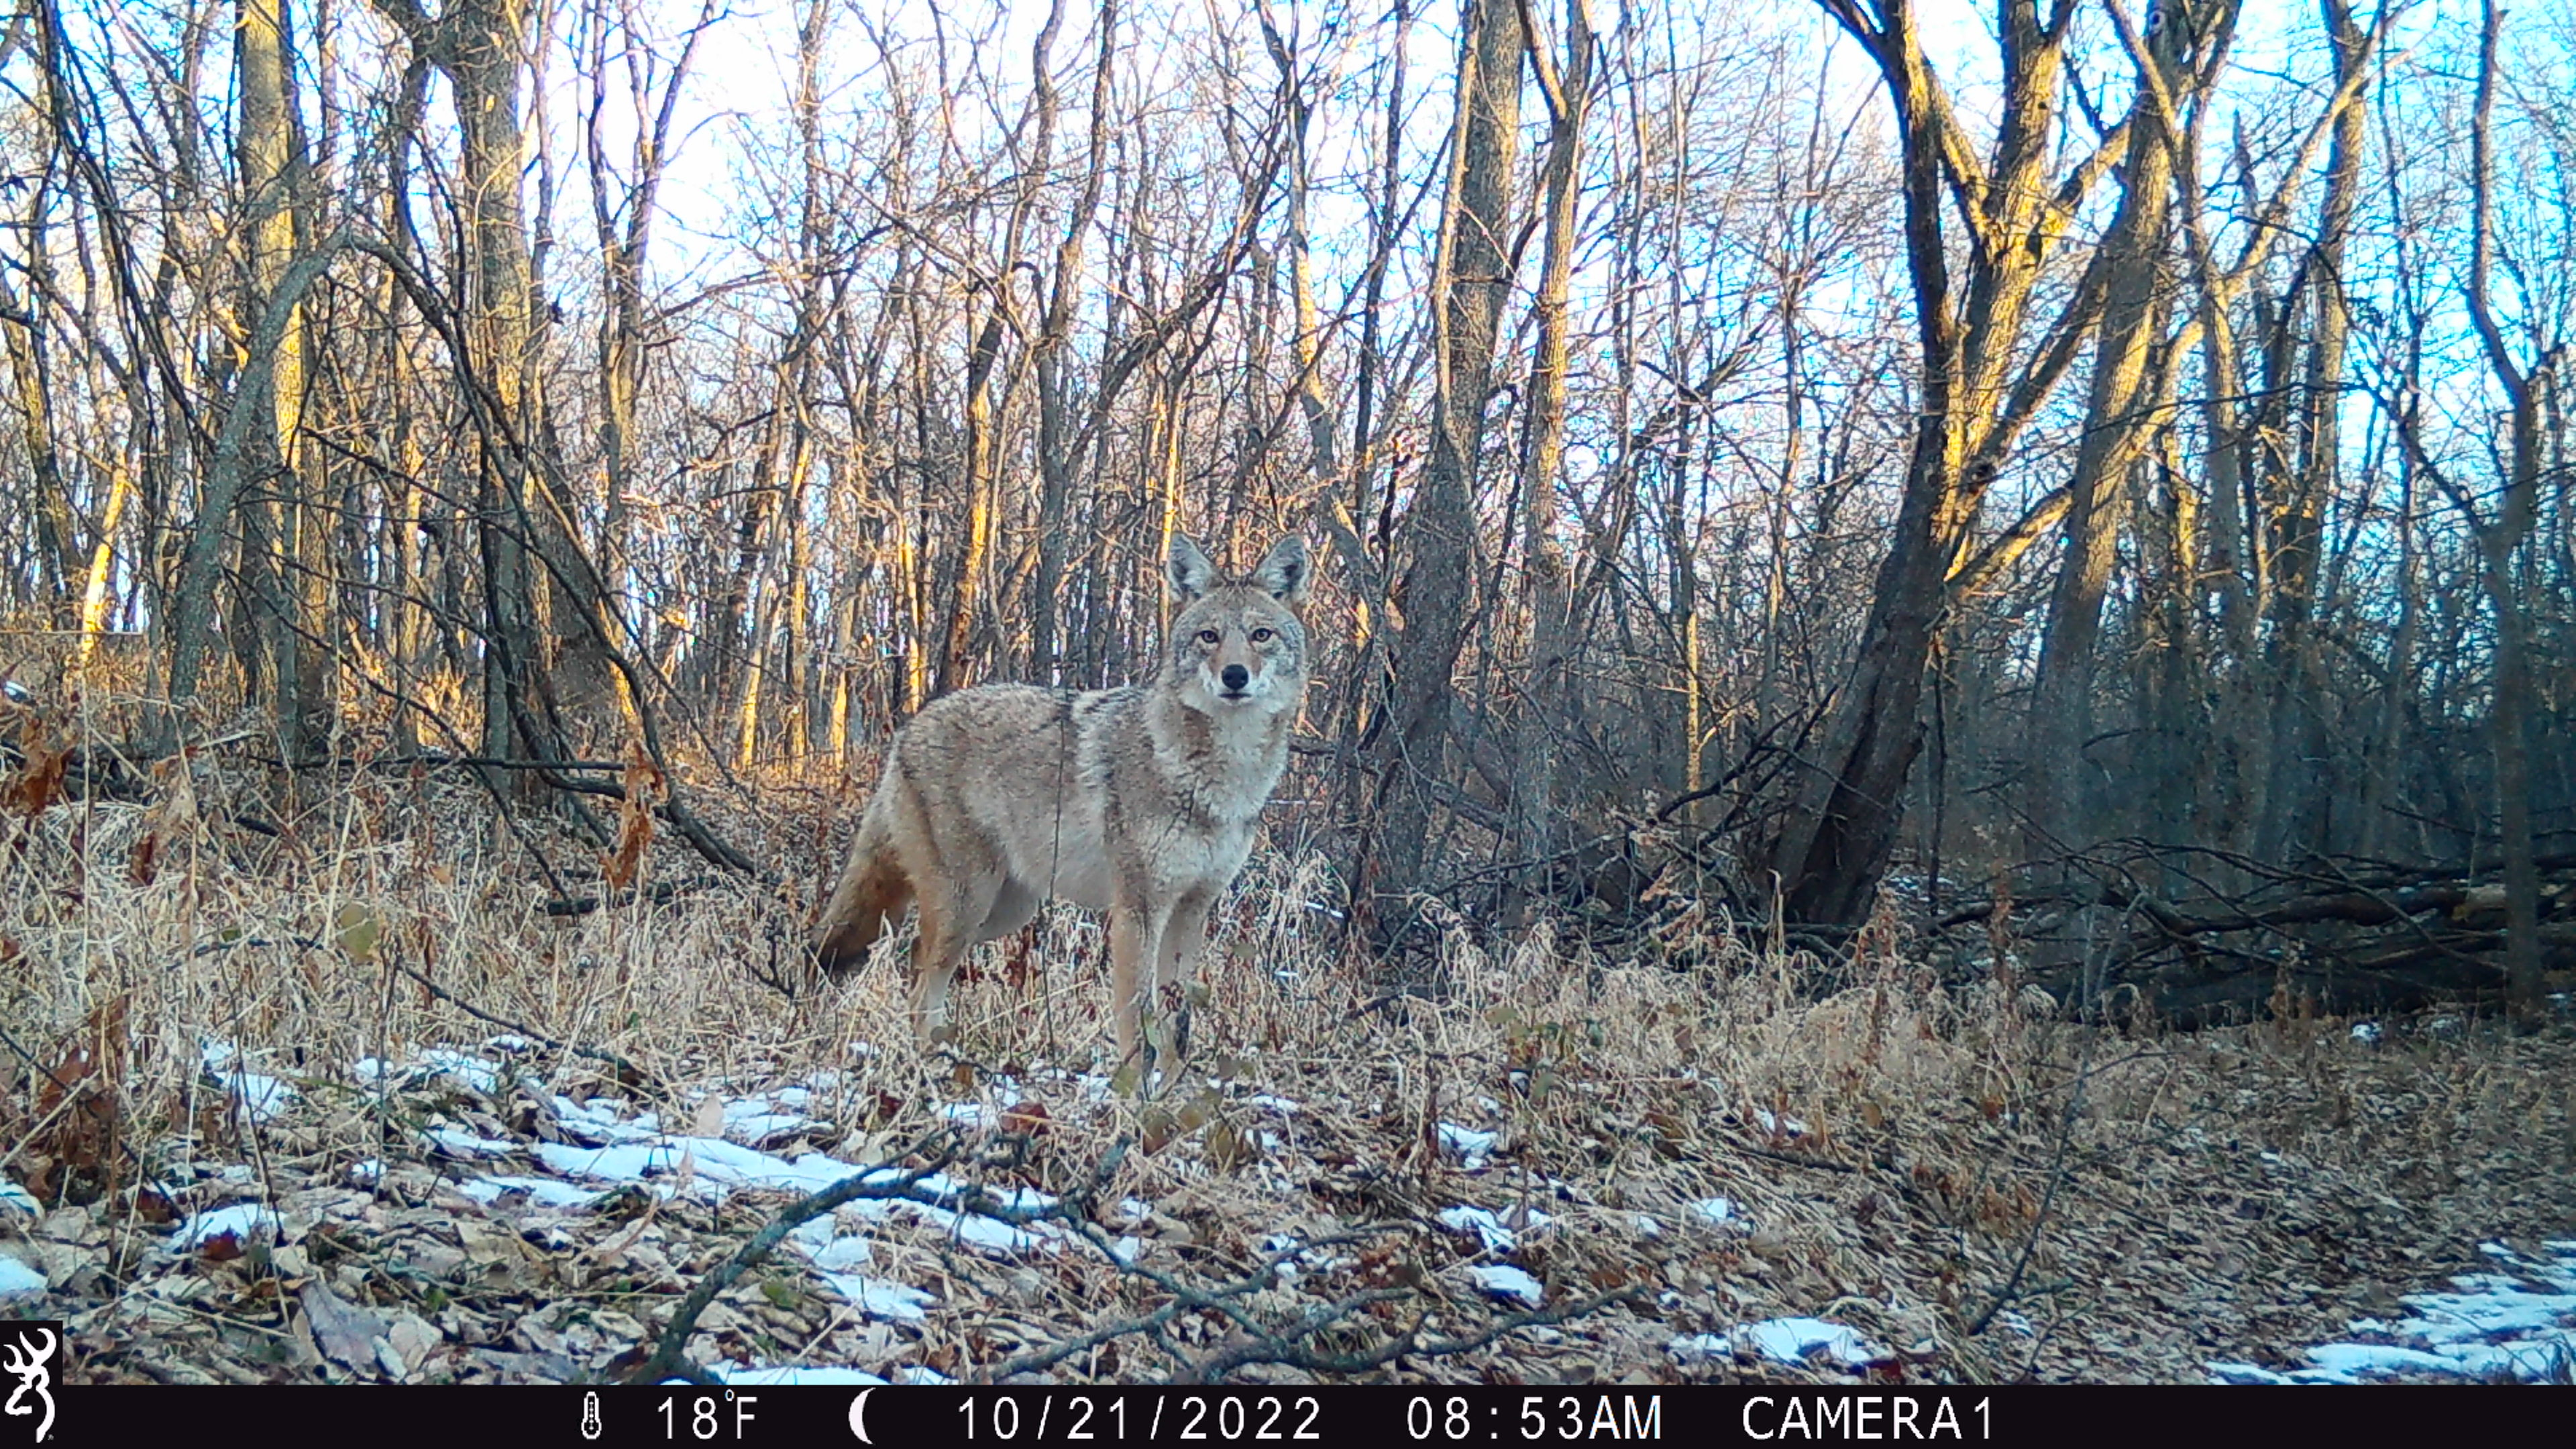Coyote: (814, 525, 1316, 1033)
